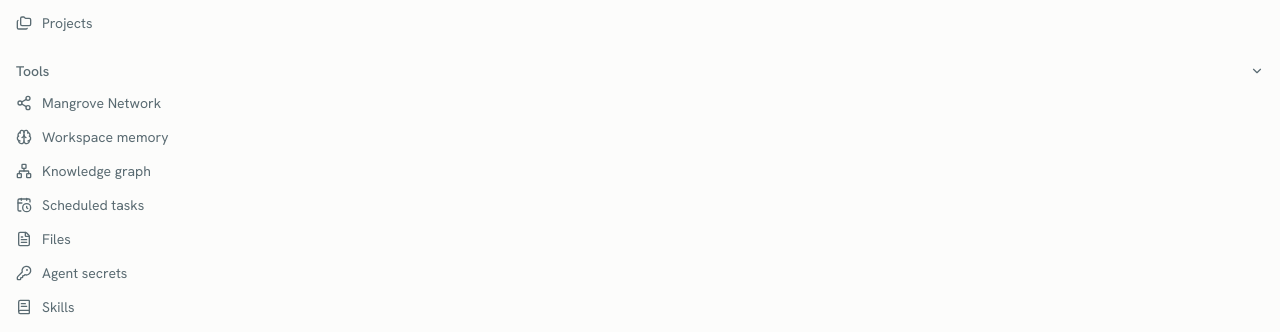
Test: whether the fold outlives the tab › opens folded when storage says it was folded
Click the button "Tools". click: (33, 71)
box: [8,55,1272,87]
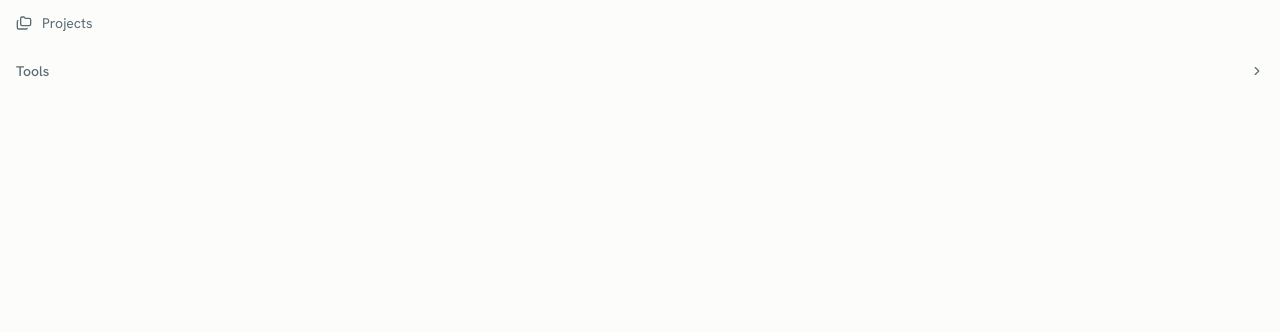
expect the button "Tools" is collapsed: met, box [8,55,1272,87]
